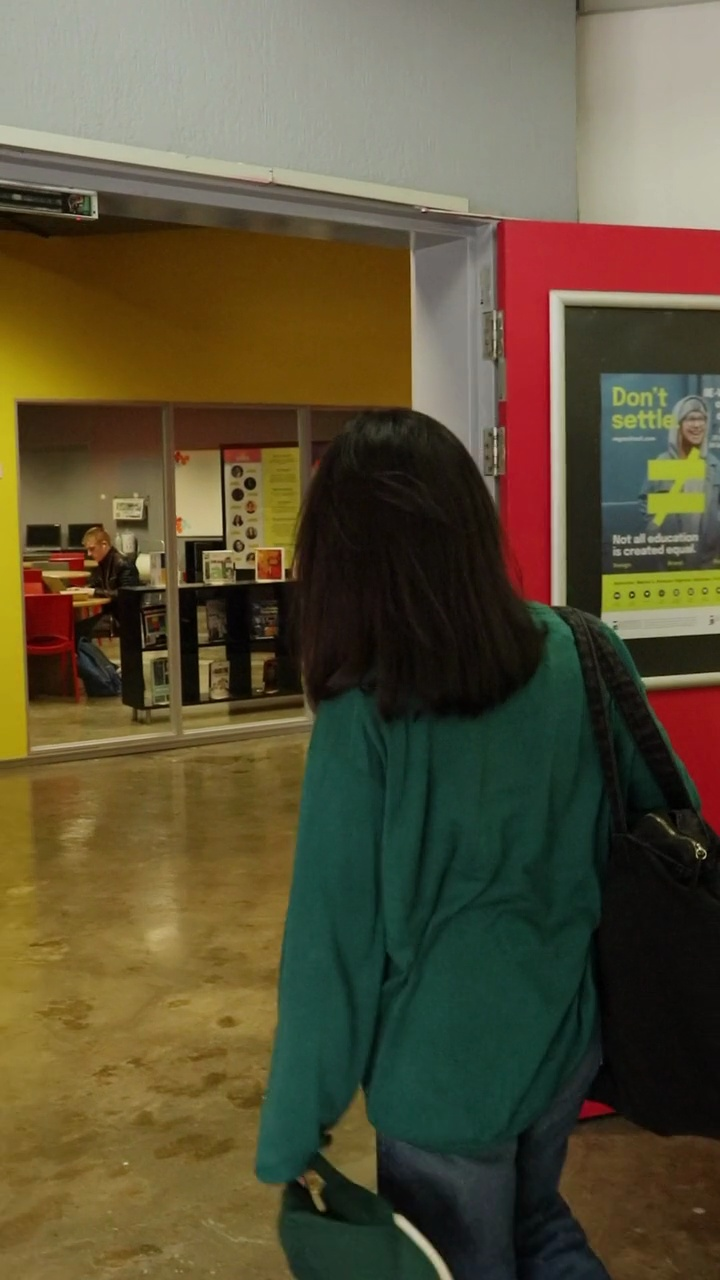electronics: (0, 125, 530, 773), (557, 141, 720, 881), (3, 384, 194, 716)
perfume_bottle: (0, 149, 445, 773), (414, 0, 720, 659), (0, 152, 300, 787)
